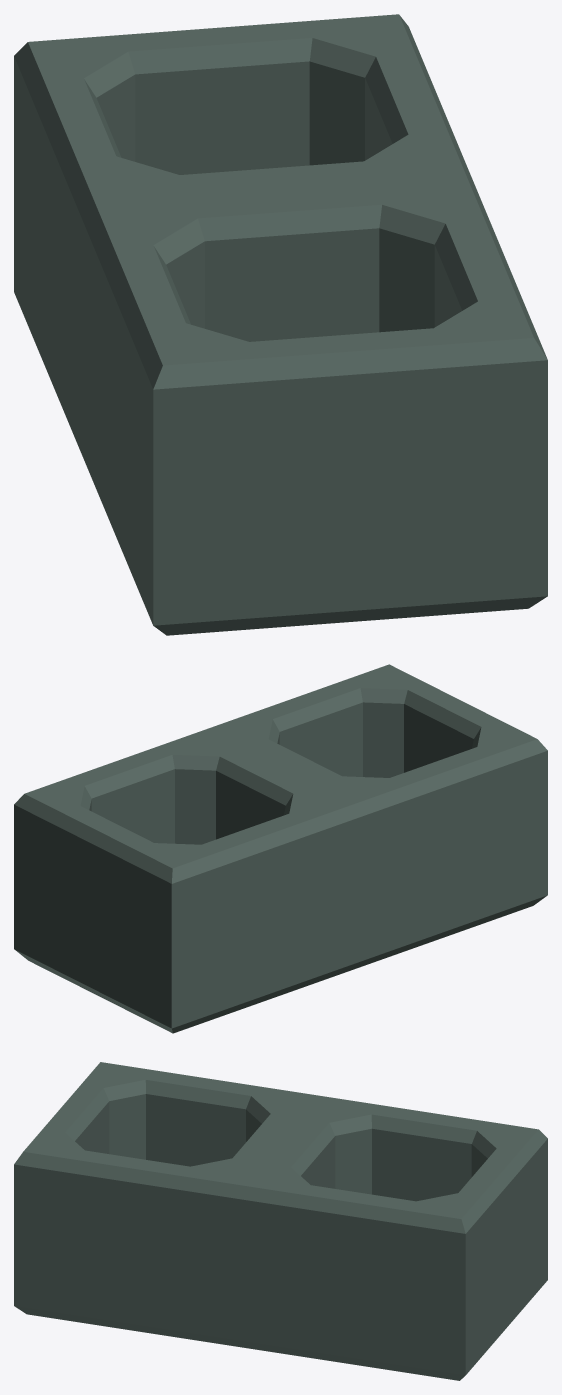
Rendered from brick_a006.glb.
3 views of the same model, one above another, from view 1: azimuth 30°, elevation 25°; view 2: azimuth 150°, elevation 25°; view 3: azimuth 270°, elevation 25° (orthographic). The views are drawn at different scales.
Visible parts, largest first — view 1: brick_a006; view 2: brick_a006; view 3: brick_a006.
Part boxes in pixels (x1,y1,x2,y2): brick_a006: [14, 14, 547, 635]; brick_a006: [14, 664, 547, 1033]; brick_a006: [14, 1062, 547, 1380].
Size of the model in its own units: 0.3247 by 0.1499 by 0.4443.
1 material, 1 textured.
